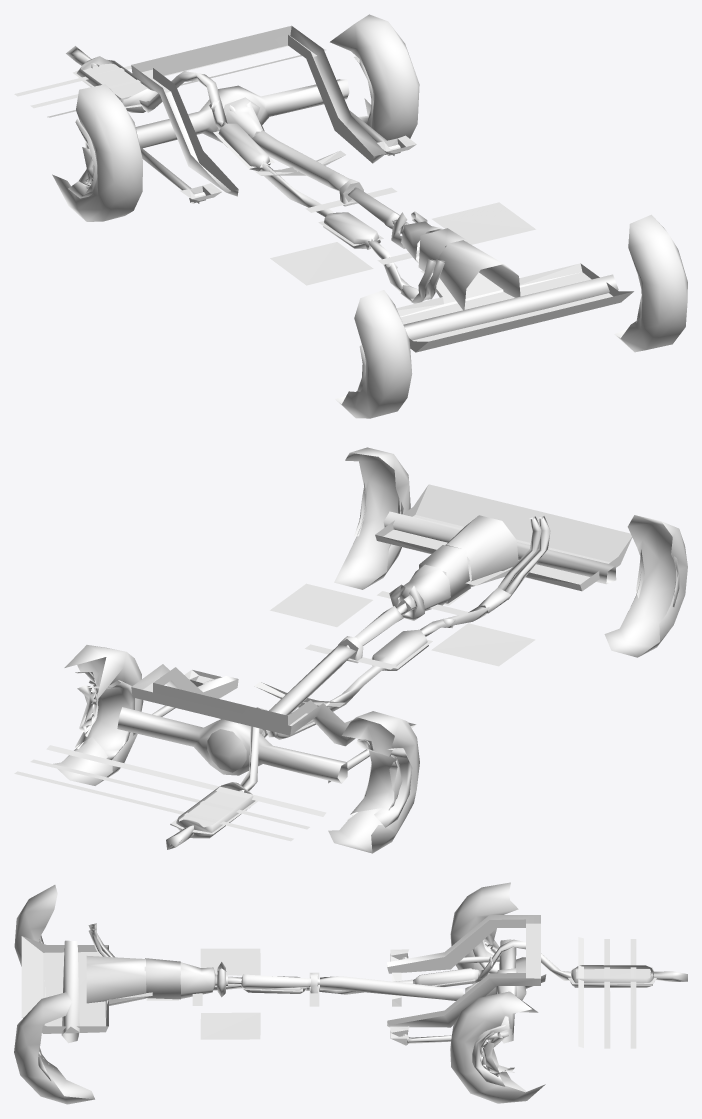
3 renders of one model, top to bottom at view 1: azimuth 30°, elevation 25°; view 2: azimuth 150°, elevation 25°; view 3: azimuth 270°, elevation 25°, orthographic. The views are drawn at different scales.
Size of the model in its own units: 1.66 by 0.6264 by 3.73.
Materials: 1 (1 with a texture image).
